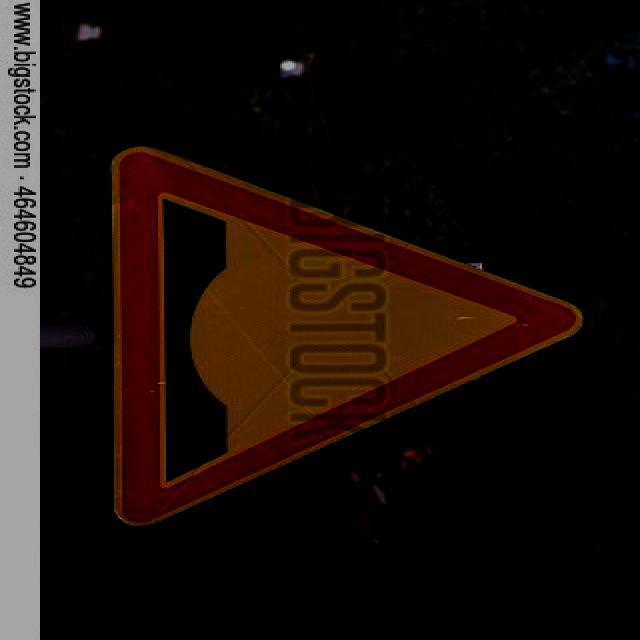Traffic sign: (104, 138, 590, 537)
